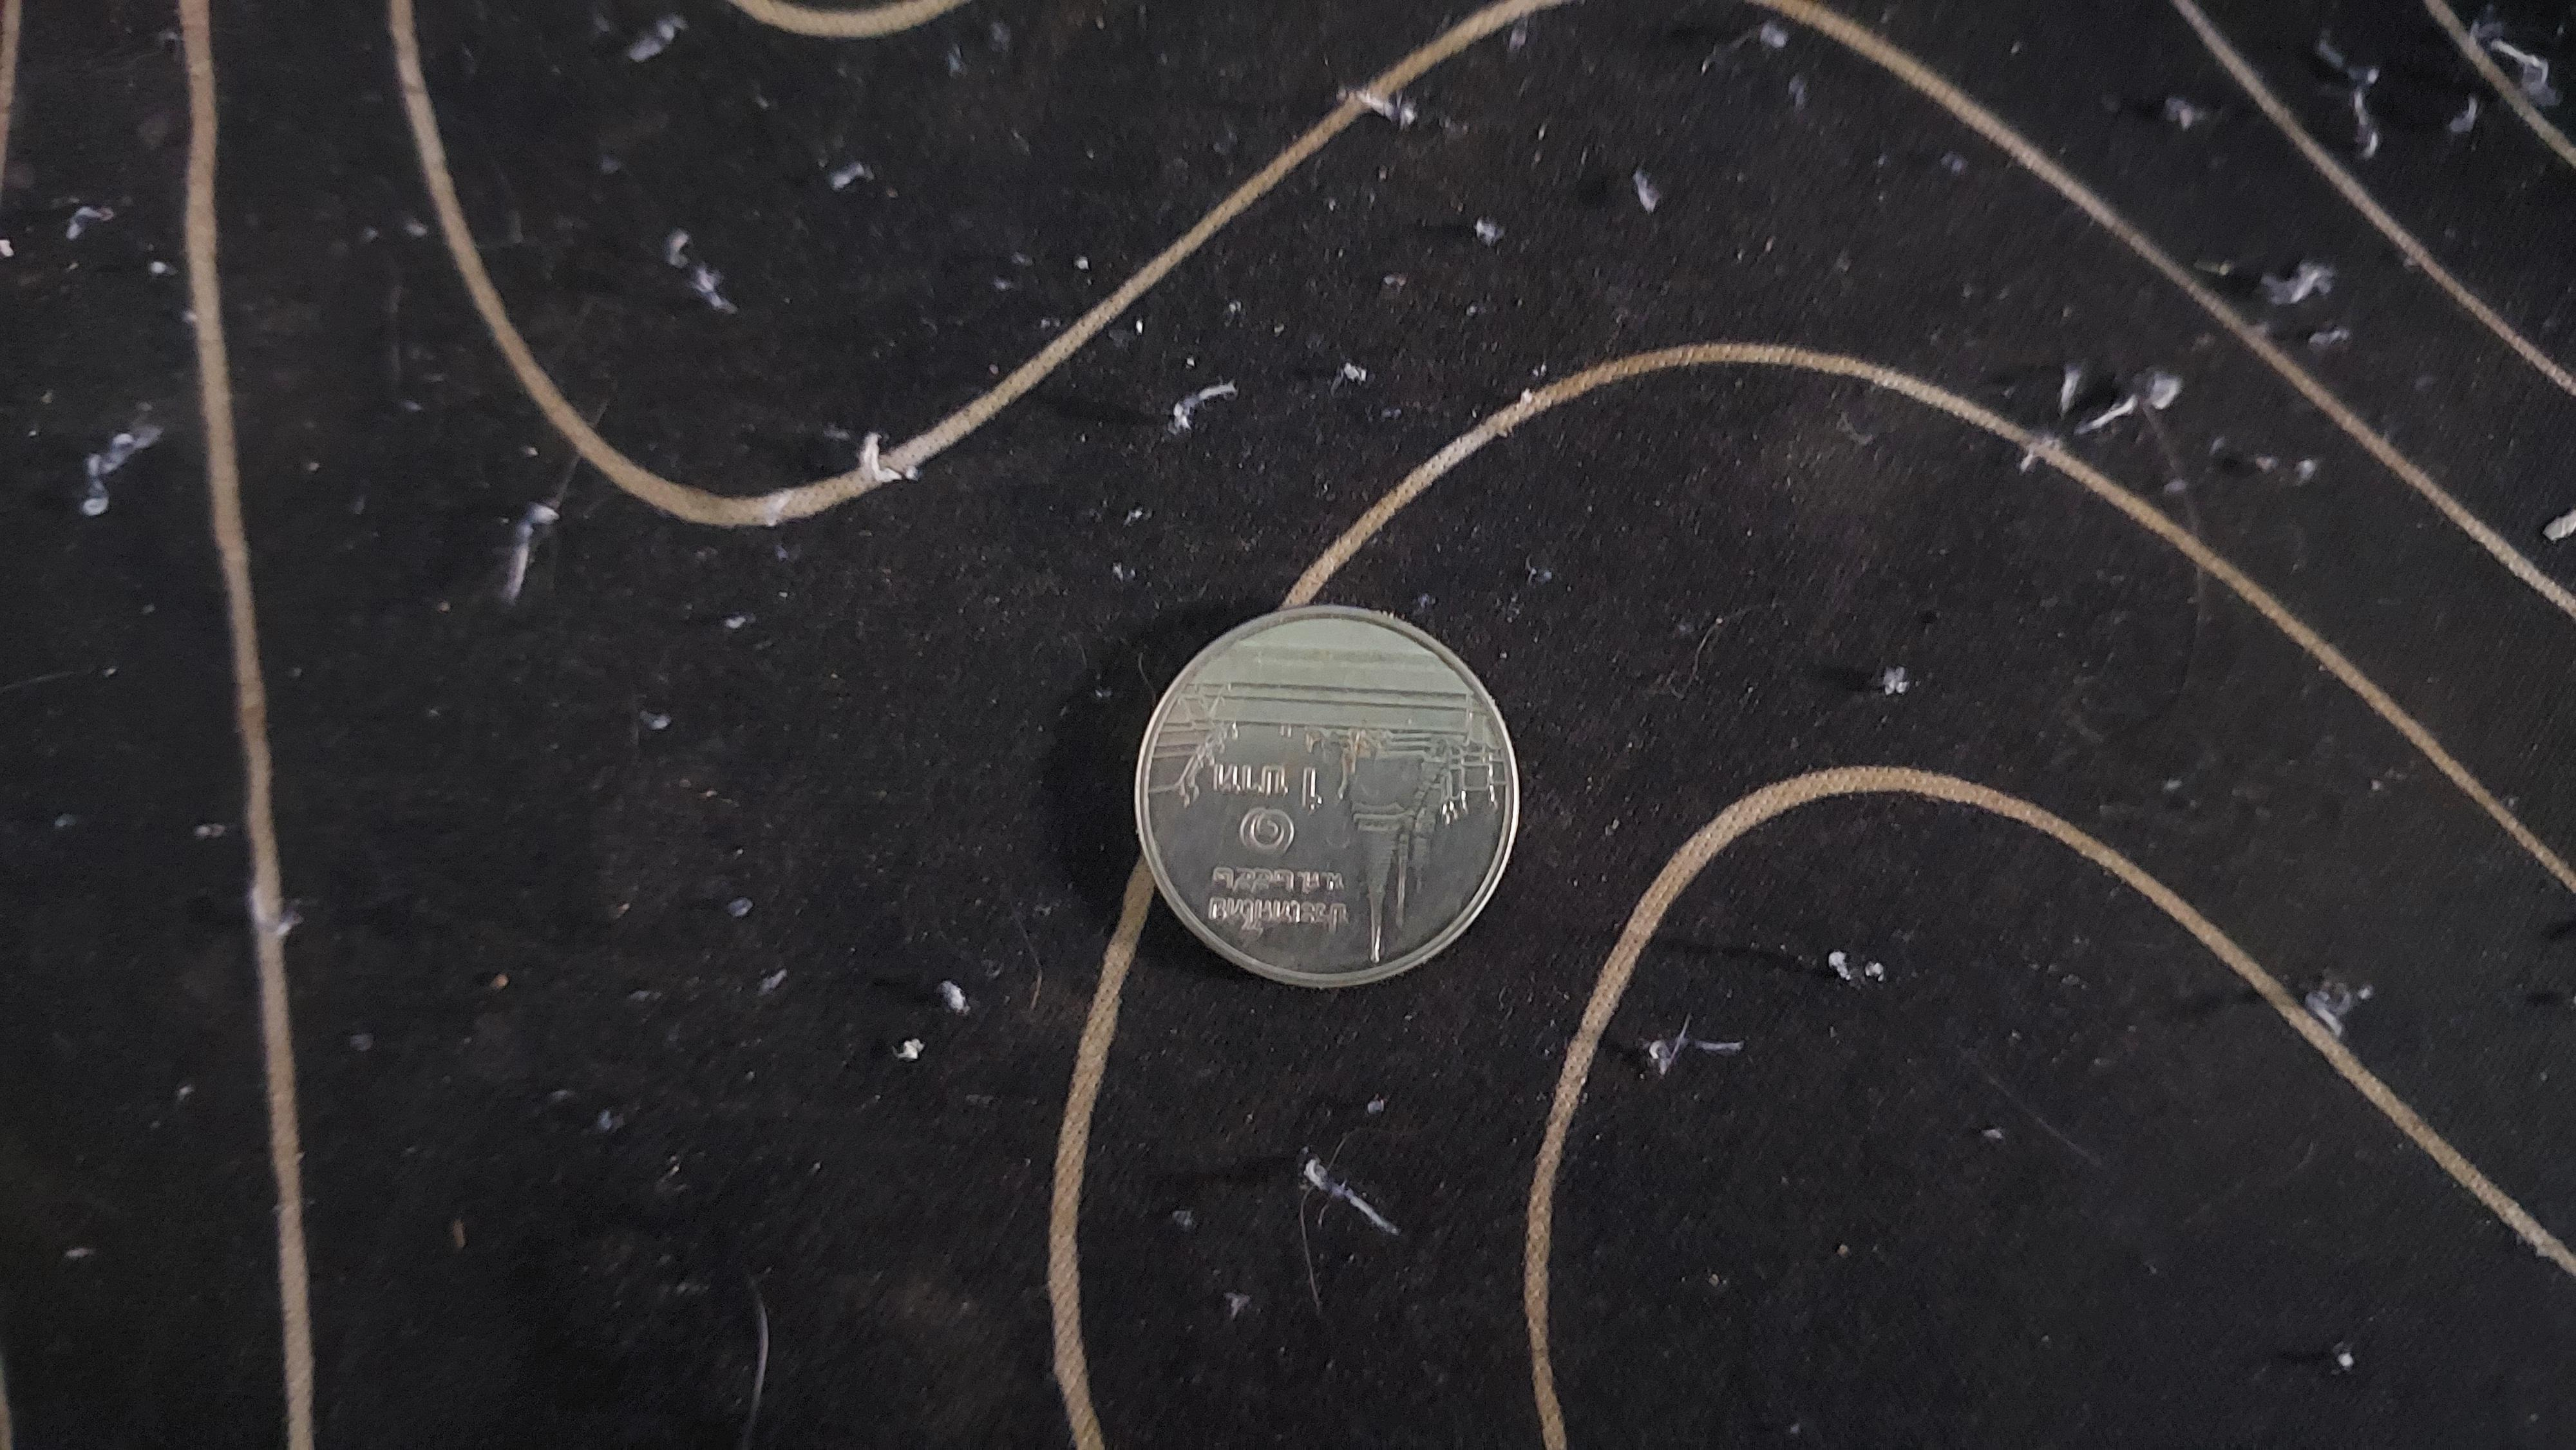1baht: (1049, 585, 1601, 1050)
